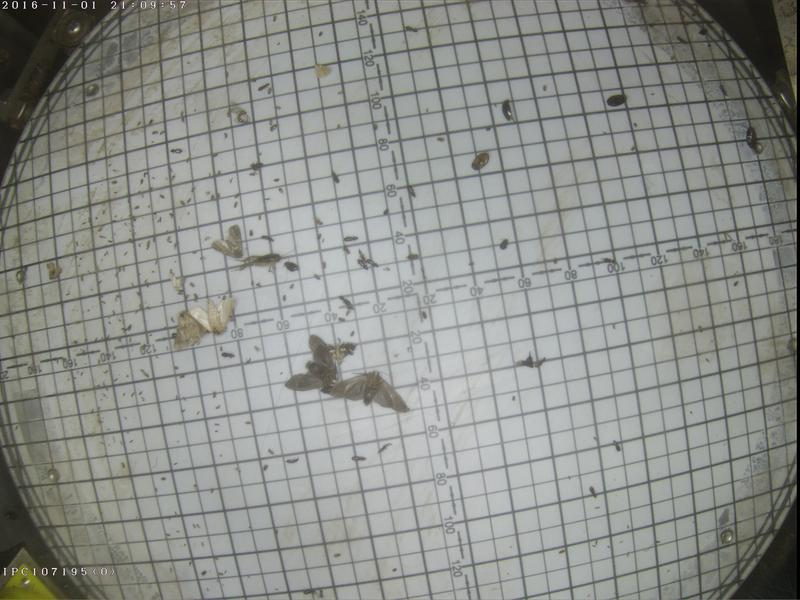Stem borer: (185, 292, 236, 334)
